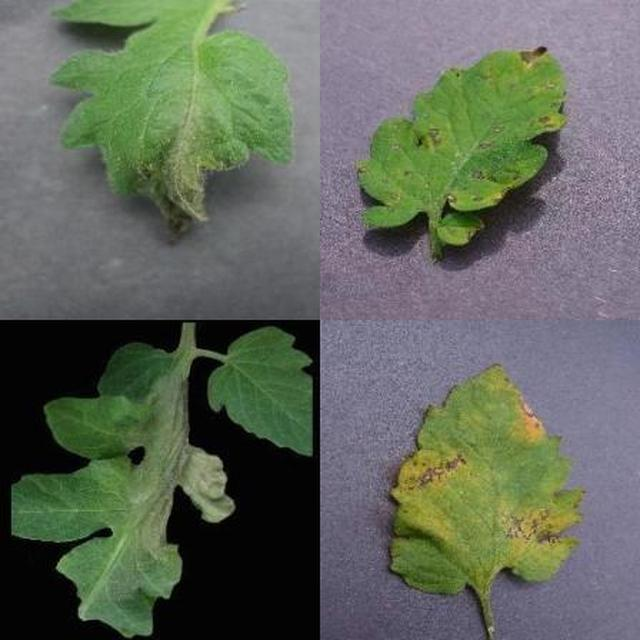Late Blight Leaf: (153, 177, 640, 640)
